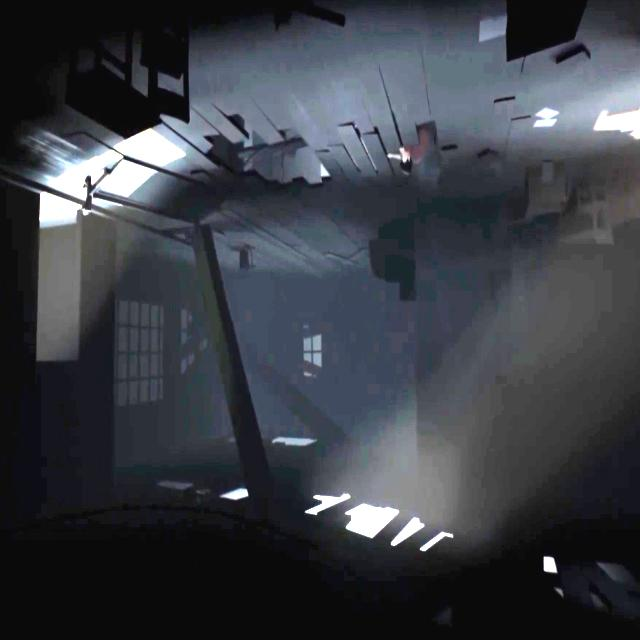boy: (387, 128, 428, 177)
